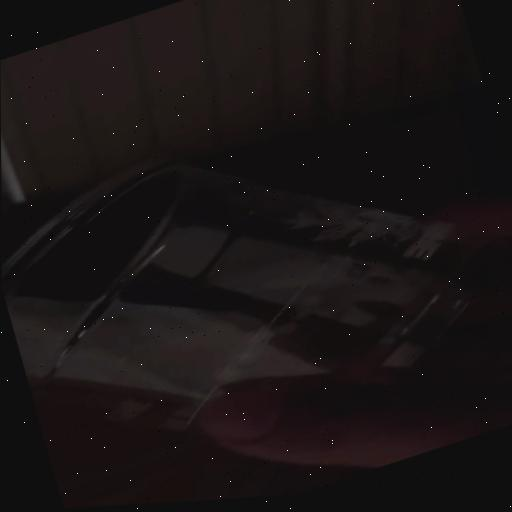ly_giay: (2, 163, 491, 428)
